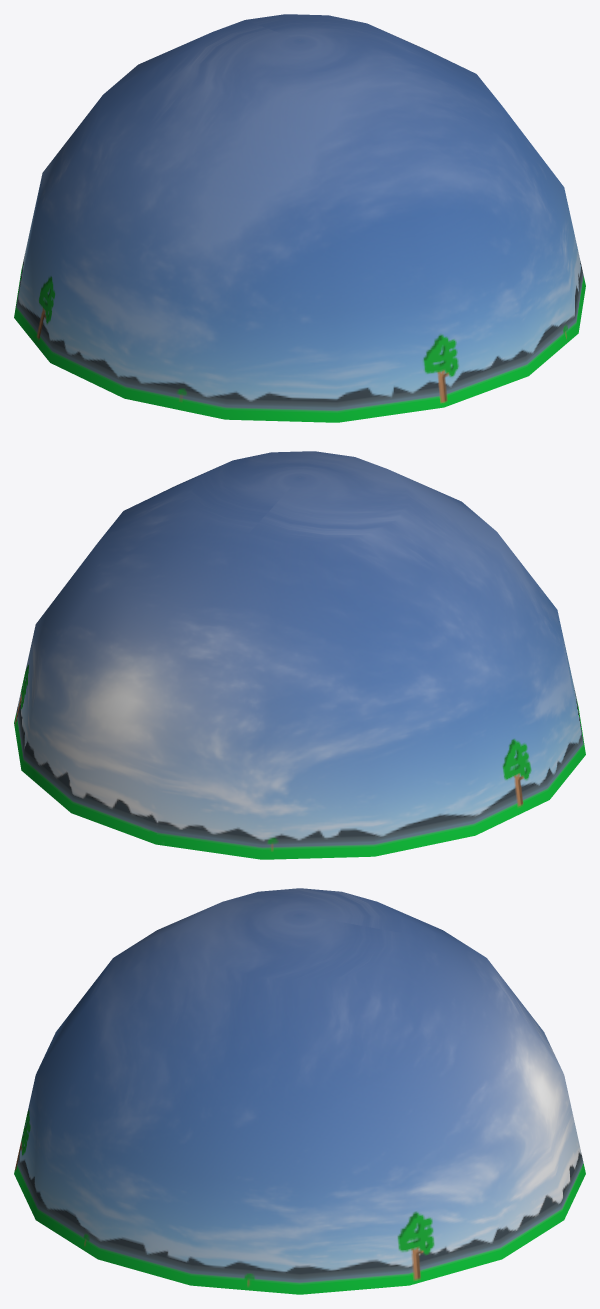
The model's file is savanna.FBX.
3 views of the same model, one above another, from view 1: azimuth 30°, elevation 25°; view 2: azimuth 150°, elevation 25°; view 3: azimuth 270°, elevation 25° (orthographic).
Parts seen in each view (by area): view 1: Sphere001; view 2: Sphere001; view 3: Sphere001.
Boxes of the visible parts, <box> form: Sphere001: <box>14,14,585,422</box>; Sphere001: <box>14,451,585,859</box>; Sphere001: <box>14,888,585,1294</box>.
Bounding box in the file's own units: 100 × 50 × 100.
Materials: 1 (1 with a texture image).
